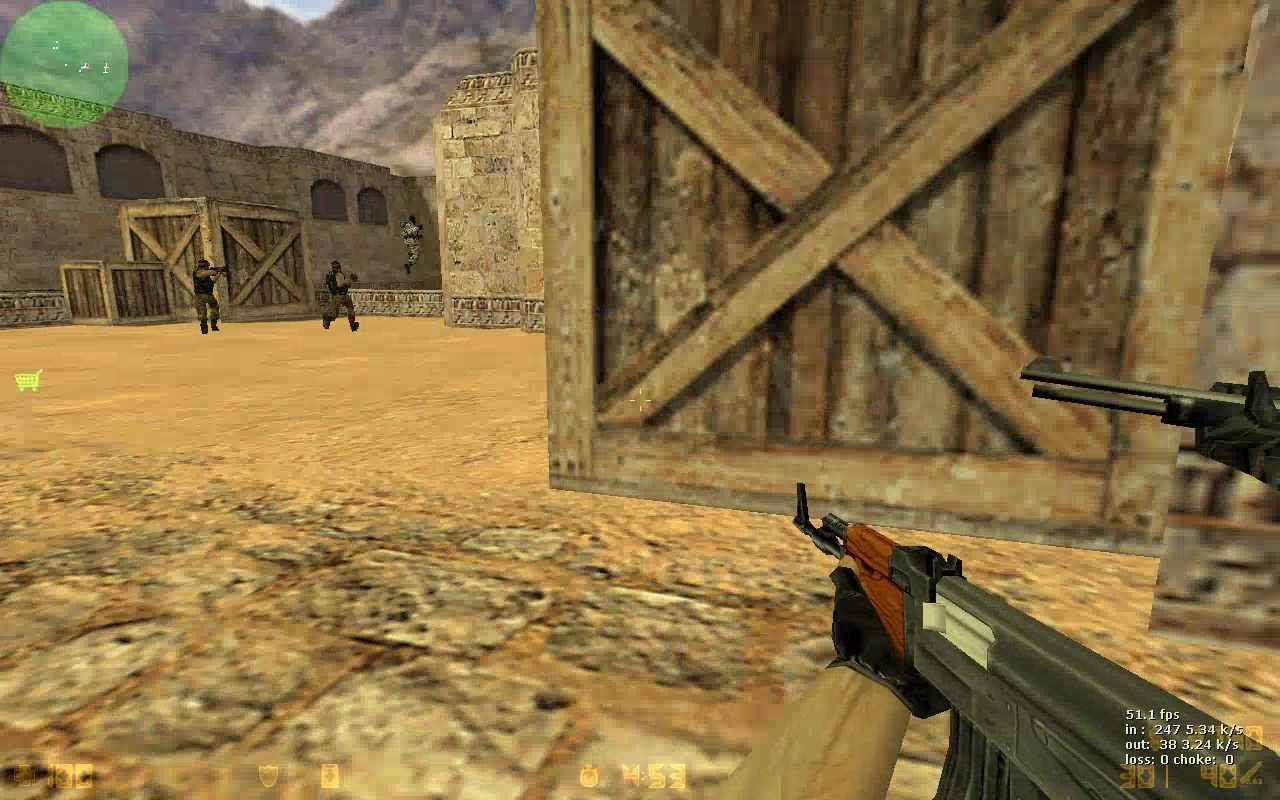terr1: (191, 258, 229, 333), (322, 260, 361, 330)
